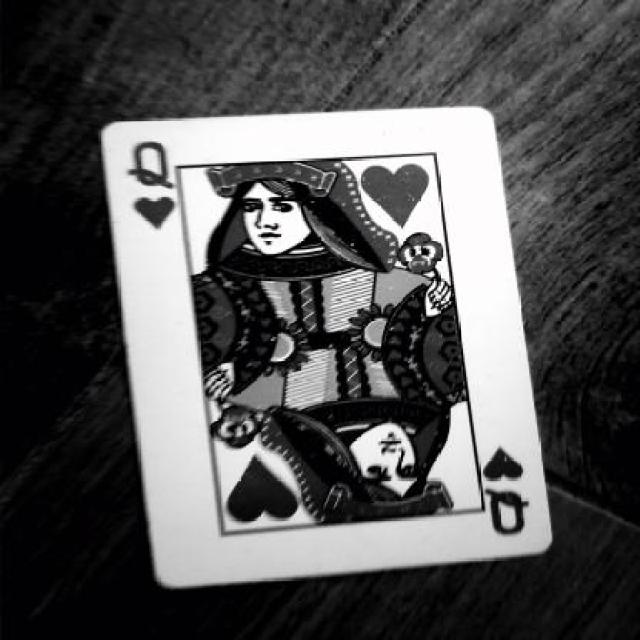QH: (464, 444, 542, 556), (122, 132, 188, 235)
